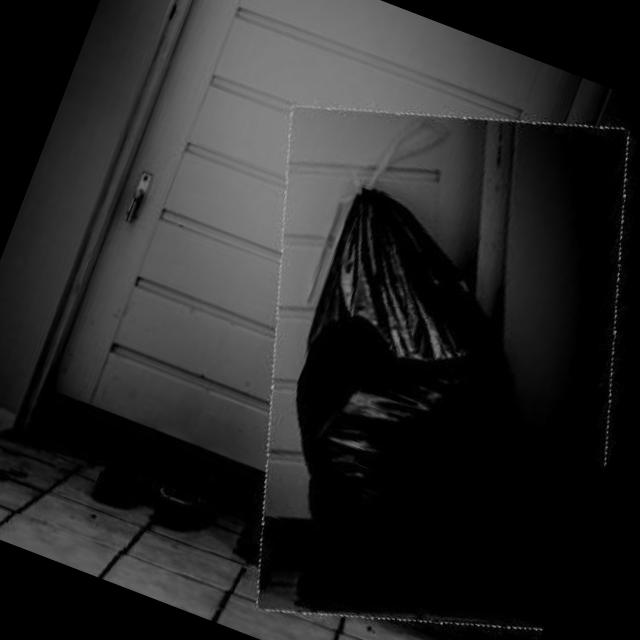KantongPlastik: (215, 166, 624, 618)
